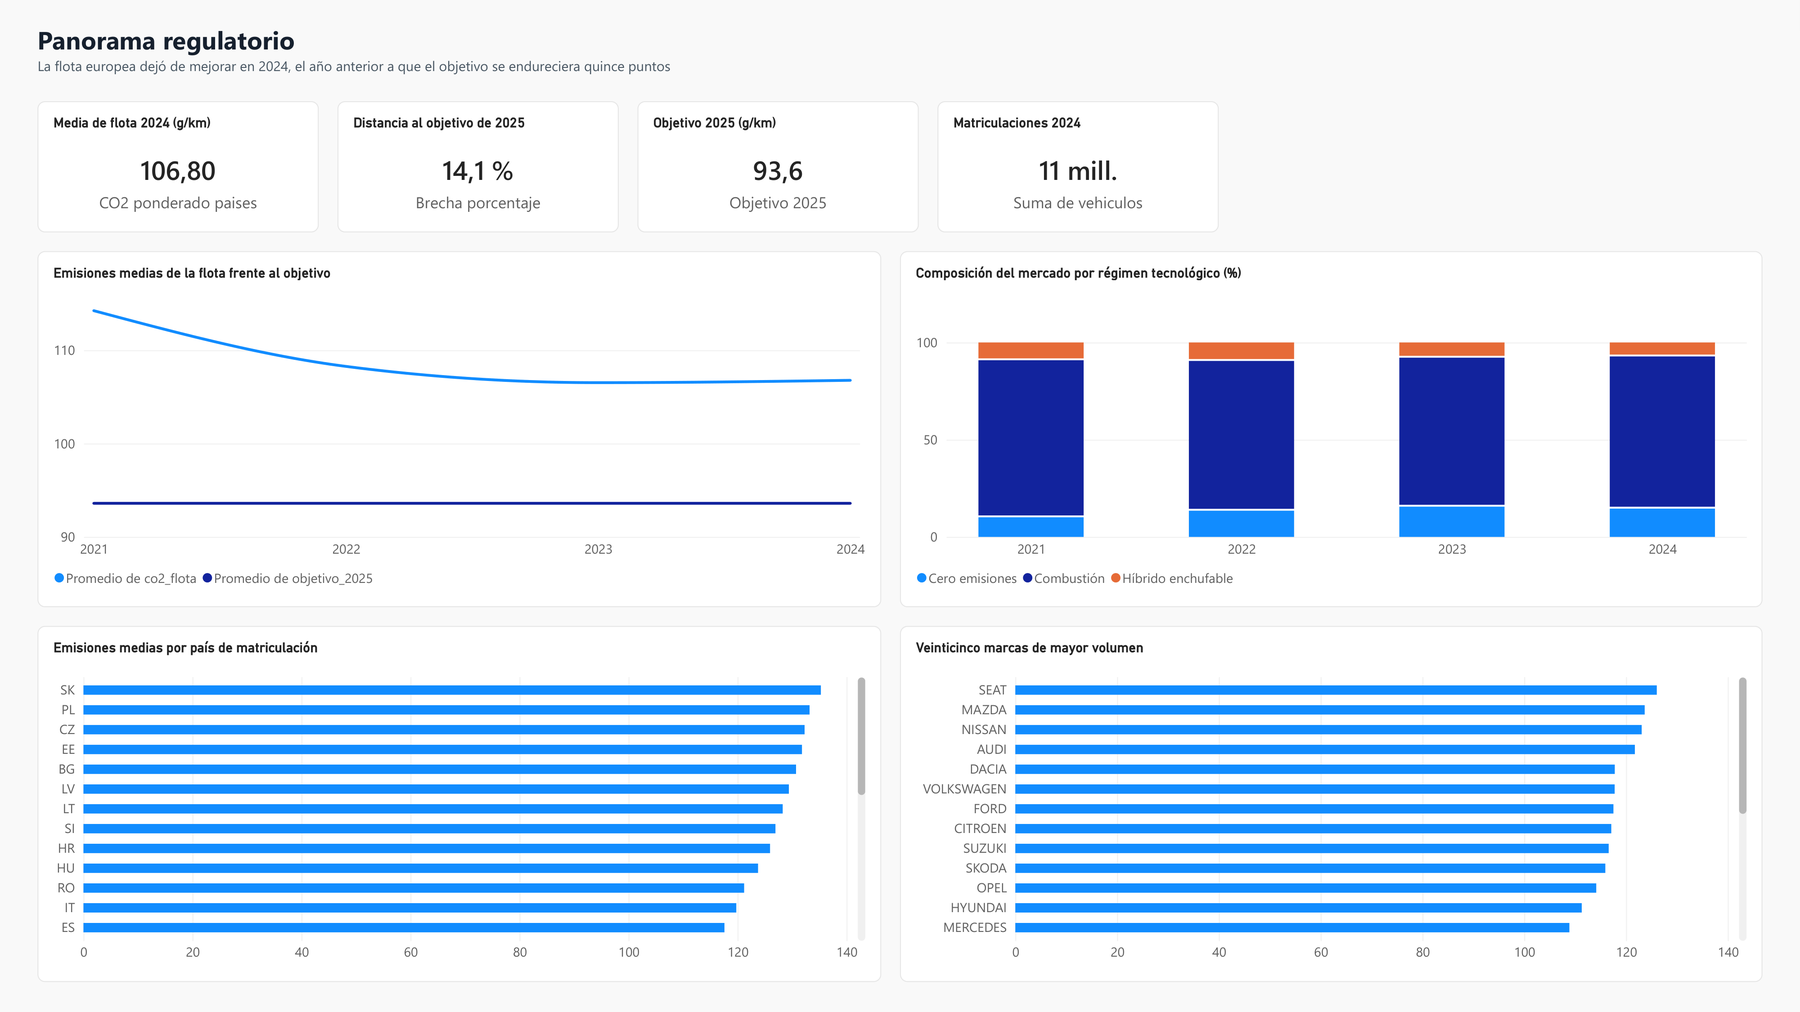

This screenshot's page, from the dashboard's own definition file:
{"tool":"powerbi","page":{"name":"Panorama regulatorio","canvas":[1920,1080],"ordinal":0},"visuals":[{"type":"textbox","box":[40,24,1300,70],"z":0},{"type":"card","title":"Media de flota 2024 (g/km)","fields":{"Values":["segmentos.CO2 ponderado paises"]},"box":[40,108,300,140],"z":1},{"type":"card","title":"Distancia al objetivo de 2025","fields":{"Values":["segmentos.Brecha porcentaje"]},"box":[360,108,300,140],"z":2},{"type":"card","title":"Objetivo 2025 (g/km)","fields":{"Values":["segmentos.Objetivo 2025"]},"box":[680,108,300,140],"z":3},{"type":"card","title":"Matriculaciones 2024","fields":{"Values":["Sum(paises.vehiculos)"]},"box":[1000,108,300,140],"z":4},{"type":"lineChart","title":"Emisiones medias de la flota frente al objetivo","fields":{"Category":["evolucion_flota.anio"],"Y":["Avg(evolucion_flota.co2_flota)","Avg(evolucion_flota.objetivo_2025)"]},"box":[40,268,900,380],"z":5},{"type":"columnChart","title":"Composición del mercado por régimen tecnológico (%)","fields":{"Category":["evolucion_regimen.anio"],"Series":["evolucion_regimen.regimen"],"Y":["Sum(evolucion_regimen.cuota_pct)"]},"box":[960,268,920,380],"z":6},{"type":"clusteredBarChart","title":"Emisiones medias por país de matriculación","fields":{"Category":["paises.pais"],"Y":["segmentos.CO2 ponderado paises"]},"box":[40,668,900,380],"z":7},{"type":"clusteredBarChart","title":"Veinticinco marcas de mayor volumen","fields":{"Category":["marcas.marca"],"Y":["segmentos.CO2 ponderado marcas"]},"box":[960,668,920,380],"z":8}]}

Visuals, with their boxes in screenshot pixels (x1, y1, x2, y2), scaled from the page's 1920x1080 canvas onto the 1800x1012 screenshot:
textbox: left=38, top=22, right=1256, bottom=88
"Media de flota 2024 (g/km)" card: left=38, top=101, right=319, bottom=232
"Distancia al objetivo de 2025" card: left=338, top=101, right=619, bottom=232
"Objetivo 2025 (g/km)" card: left=638, top=101, right=919, bottom=232
"Matriculaciones 2024" card: left=938, top=101, right=1219, bottom=232
"Emisiones medias de la flota frente al objetivo" lineChart: left=38, top=251, right=881, bottom=607
"Composición del mercado por régimen tecnológico (%)" columnChart: left=900, top=251, right=1762, bottom=607
"Emisiones medias por país de matriculación" clusteredBarChart: left=38, top=626, right=881, bottom=982
"Veinticinco marcas de mayor volumen" clusteredBarChart: left=900, top=626, right=1762, bottom=982
